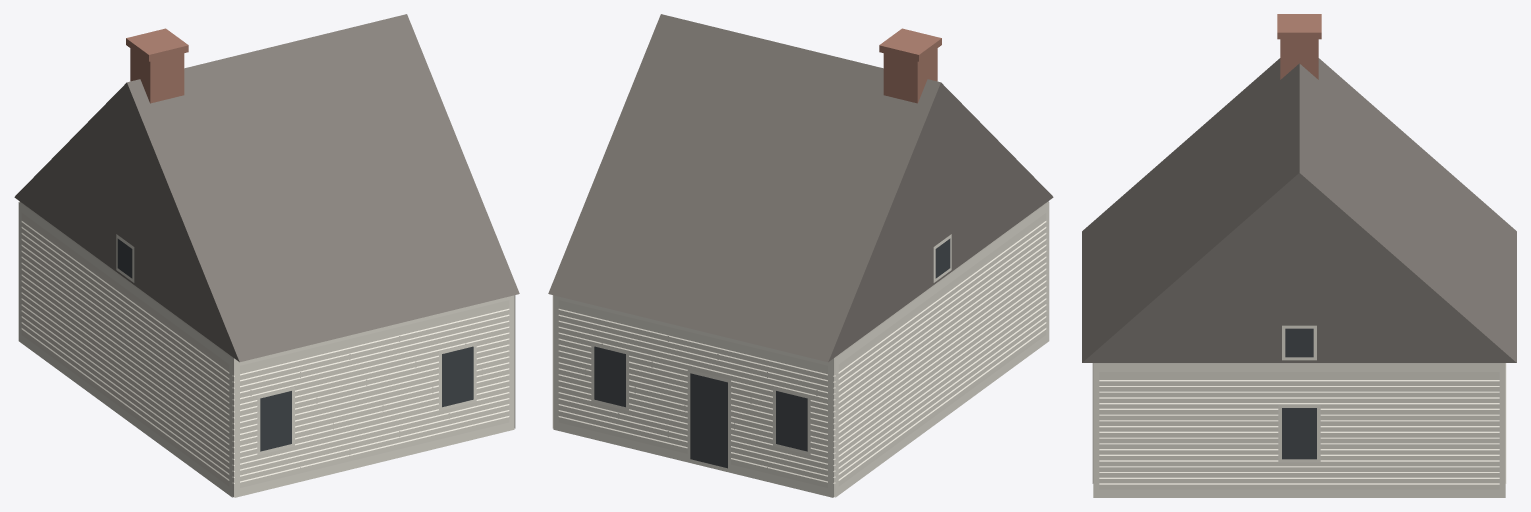
Rendered from recon_1835_blk_randolph_dearborn_d6_10__inferred_1835.glb.
3 renders of one model, left to right at view 1: azimuth 30°, elevation 25°; view 2: azimuth 150°, elevation 25°; view 3: azimuth 270°, elevation 25°, orthographic. The views are drawn at different scales.
Parts seen in each view (by area): view 1: recon_1835_blk_randolph_dearborn_d6_10__inferred_1835; view 2: recon_1835_blk_randolph_dearborn_d6_10__inferred_1835; view 3: recon_1835_blk_randolph_dearborn_d6_10__inferred_1835.
Boxes of the visible parts, left/top/right/bottom form: recon_1835_blk_randolph_dearborn_d6_10__inferred_1835: left=14, top=14, right=519, bottom=497; recon_1835_blk_randolph_dearborn_d6_10__inferred_1835: left=548, top=14, right=1053, bottom=497; recon_1835_blk_randolph_dearborn_d6_10__inferred_1835: left=1082, top=14, right=1516, bottom=497.
Size of the model in its own units: 6.99 by 8.7 by 9.61.
